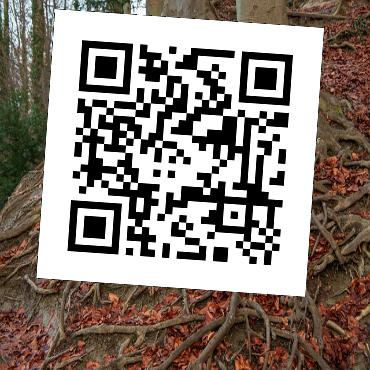qr_code: (36, 9, 323, 296)
